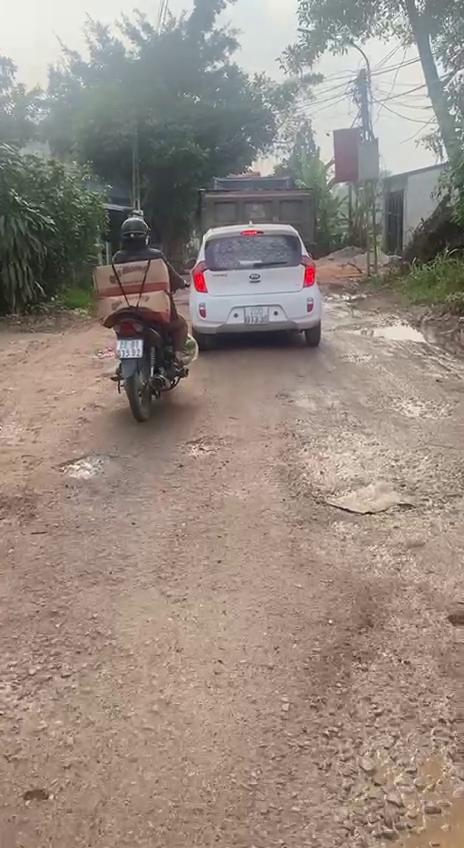pothole: (351, 711, 464, 848), (308, 470, 448, 522), (54, 454, 126, 483), (183, 434, 225, 462)
